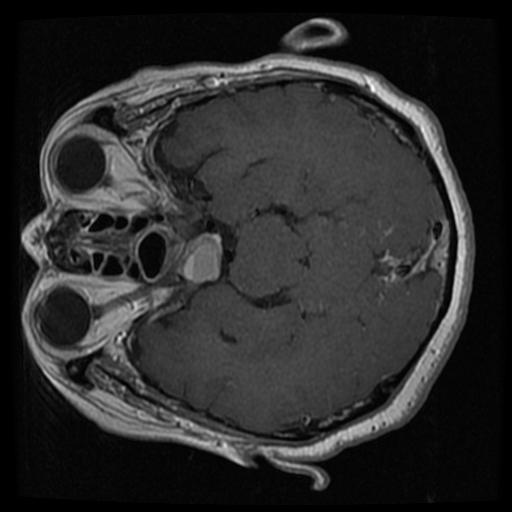pituitary tumour: (185, 235, 222, 282)
